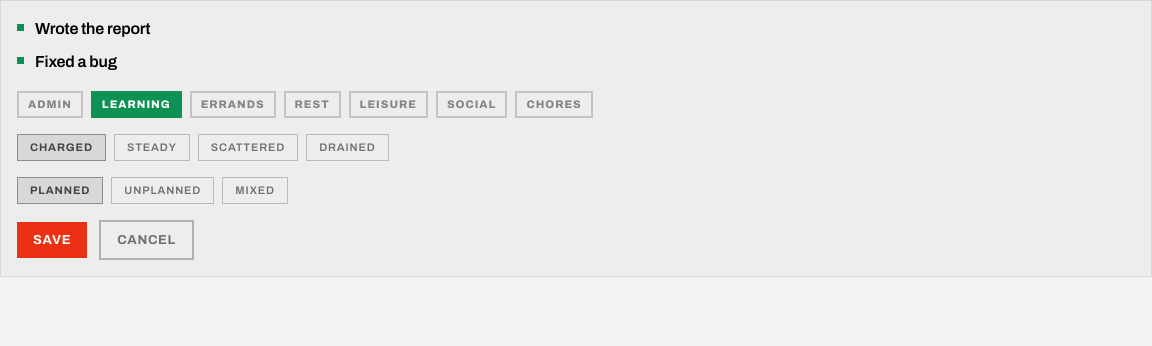
Test: EntryEditor › save › shows error on 422 validation failure
This screenshot has width=1152, height=346.
What coordinates should you click on to do the following:
click the button with test id "editor-save-test-1"
I would click on:
 (52, 240)
Its box is [17, 222, 87, 258].
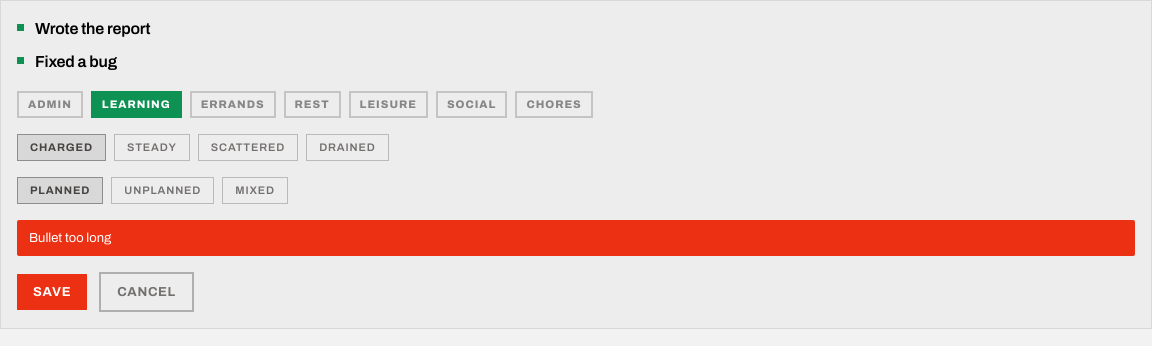
Expected: the text with test id "editor-error-test-1" reads "Bullet too long", [29, 231, 111, 245]
